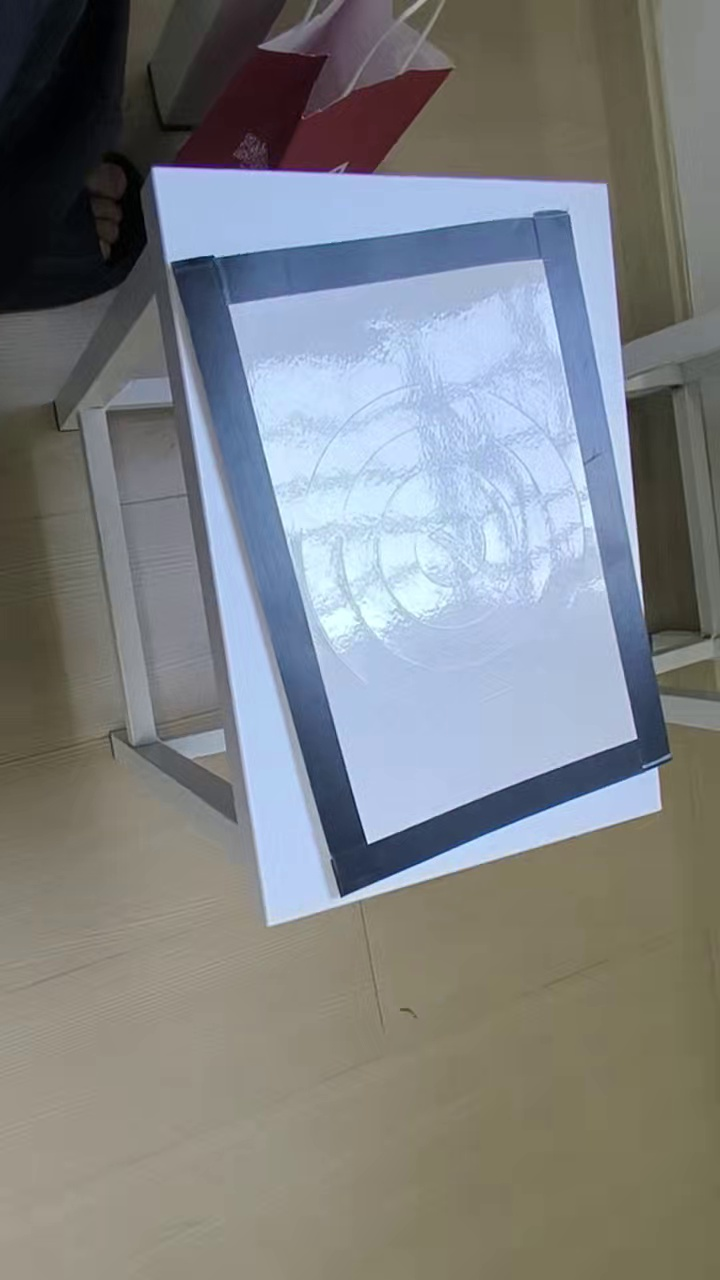board: (170, 210, 673, 893)
